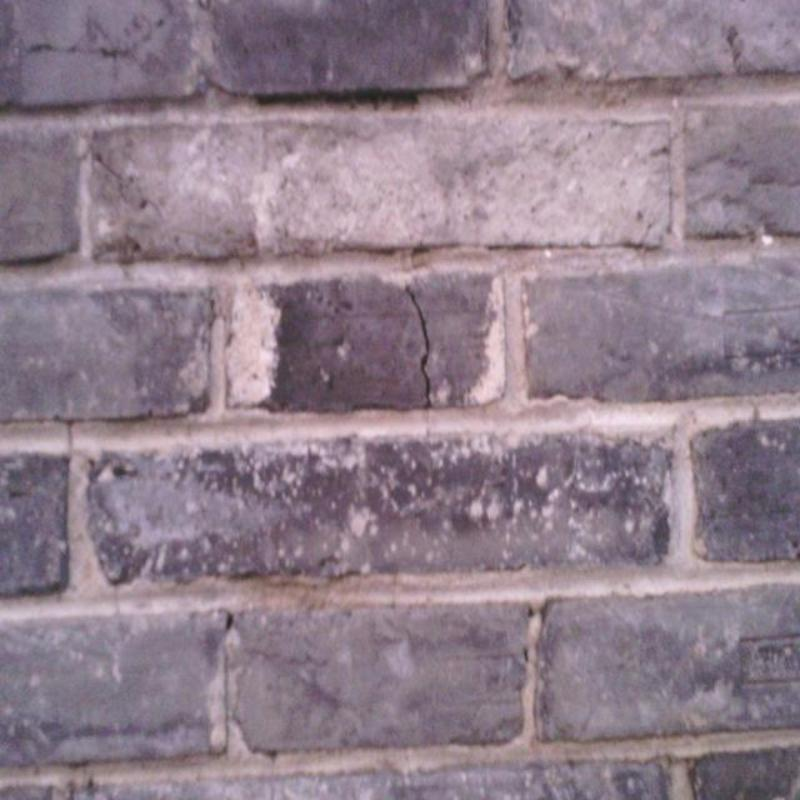pothole: (406, 283, 431, 408), (66, 420, 98, 471)
